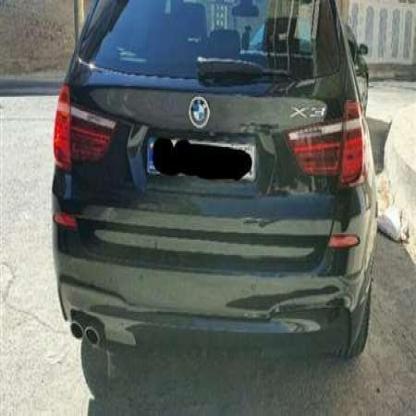Car: (41, 0, 377, 376)
